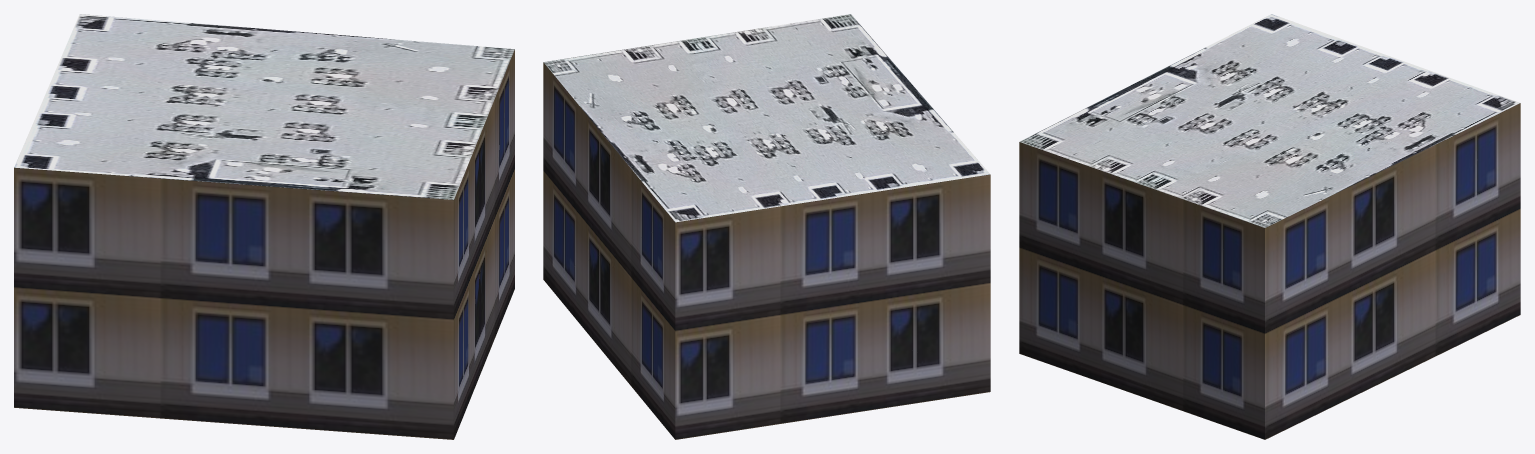
File: ResTex__1759.fbx
The picture shows the model from 3 angles, left to right: view 1: azimuth 30°, elevation 25°; view 2: azimuth 150°, elevation 25°; view 3: azimuth 270°, elevation 25°; orthographic projection. The views are drawn at different scales.
Visible parts, largest first — view 1: CityEngineMaterial_5_m, CityEngineMaterial_4_m; view 2: CityEngineMaterial_5_m, CityEngineMaterial_4_m; view 3: CityEngineMaterial_5_m, CityEngineMaterial_4_m.
Part boxes in pixels (x1,y1,x2,y2): CityEngineMaterial_5_m: (14, 49, 514, 439); CityEngineMaterial_4_m: (14, 14, 514, 199); CityEngineMaterial_5_m: (543, 62, 990, 439); CityEngineMaterial_4_m: (543, 14, 990, 222); CityEngineMaterial_5_m: (1019, 103, 1520, 439); CityEngineMaterial_4_m: (1019, 14, 1519, 227).
Size of the model in its own units: 13 by 6 by 12.87.
2 materials, 2 textured.
